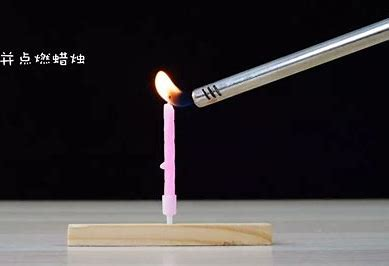Fire: (144, 58, 195, 114)
